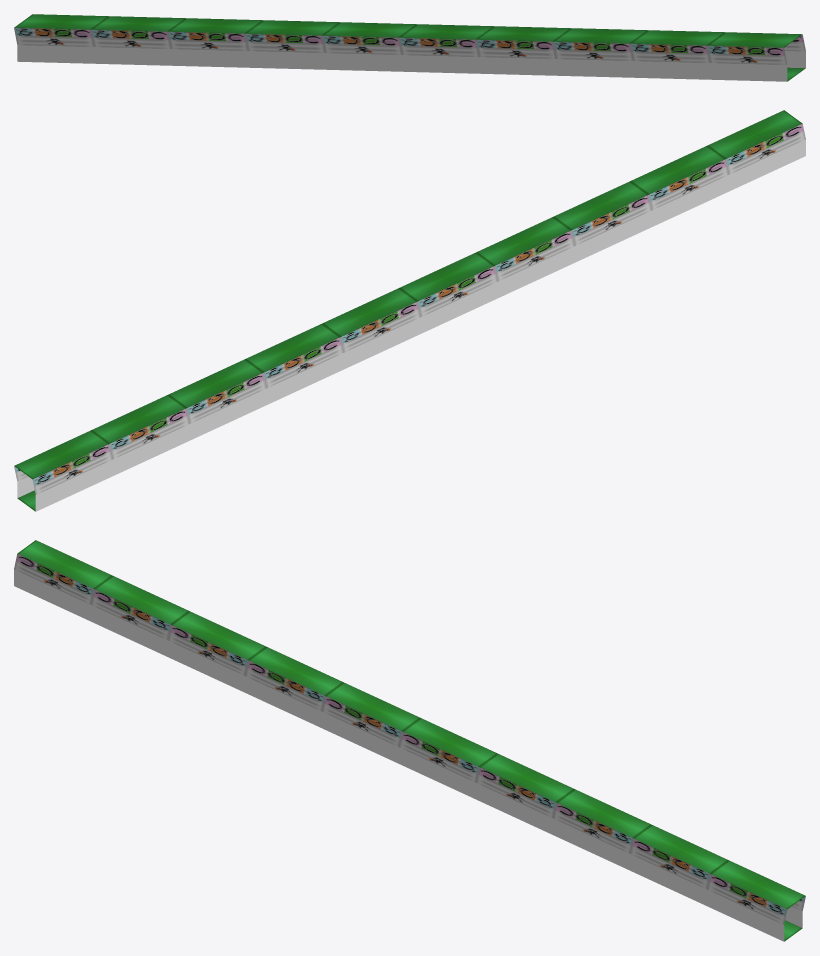
Rendered from CourseSpring_Box_Wall_R_7.fbx.
3 views of the same model, one above another, from view 1: azimuth 90°, elevation 25°; view 2: azimuth 150°, elevation 25°; view 3: azimuth 270°, elevation 25° (orthographic).
Parts seen in each view (by area): view 1: polySurface47; view 2: polySurface47; view 3: polySurface47.
Boxes of the visible parts, x1=… form: polySurface47: x1=14, y1=14, x2=805, y2=81; polySurface47: x1=14, y1=110, x2=805, y2=511; polySurface47: x1=14, y1=540, x2=805, y2=941.
Bounding box in the file's own units: 25.83 × 11.98 × 42.75.
1 material, 1 textured.
